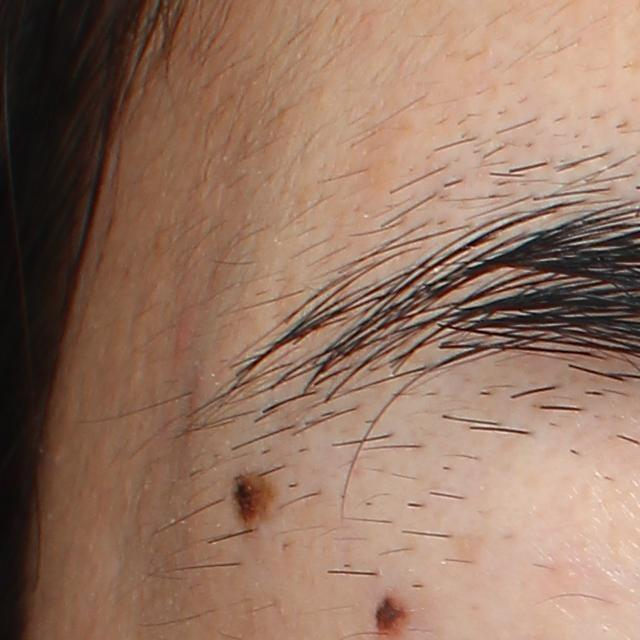nevus: (226, 466, 274, 536), (372, 592, 410, 639)
papule: (173, 314, 194, 351)
